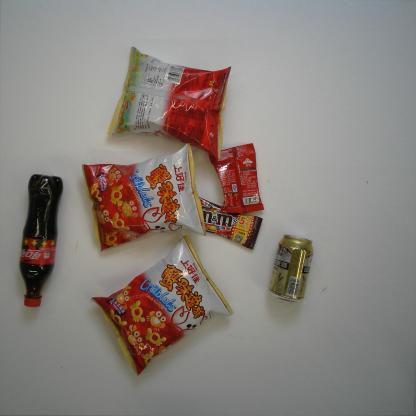Alcohol: (268, 234, 314, 303)
Chocolate: (199, 197, 263, 251)
Drink: (19, 173, 64, 308)
Instant Drink: (208, 142, 266, 215)
Puffed Food: (89, 235, 235, 378), (106, 46, 232, 160), (81, 143, 207, 252)
